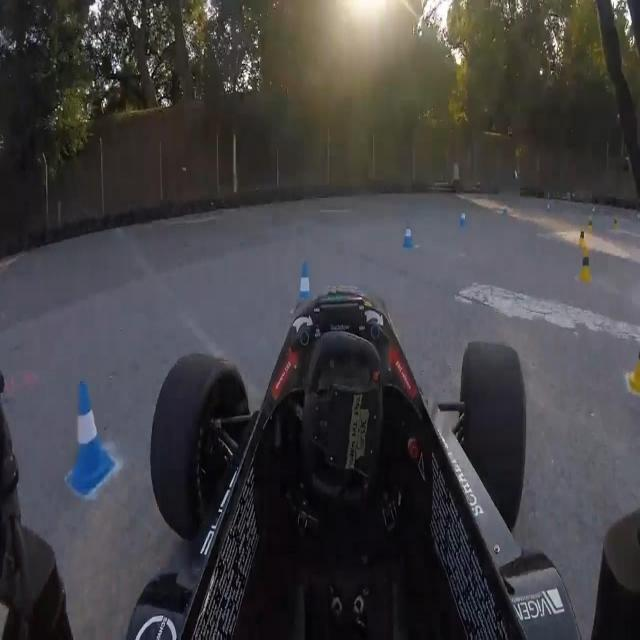blue_cone: (60, 376, 115, 500), (292, 260, 318, 336), (400, 217, 414, 252), (458, 210, 466, 231)
yellow_cone: (627, 333, 640, 398), (579, 247, 593, 284), (577, 230, 587, 250), (586, 216, 594, 236), (613, 217, 619, 232)
